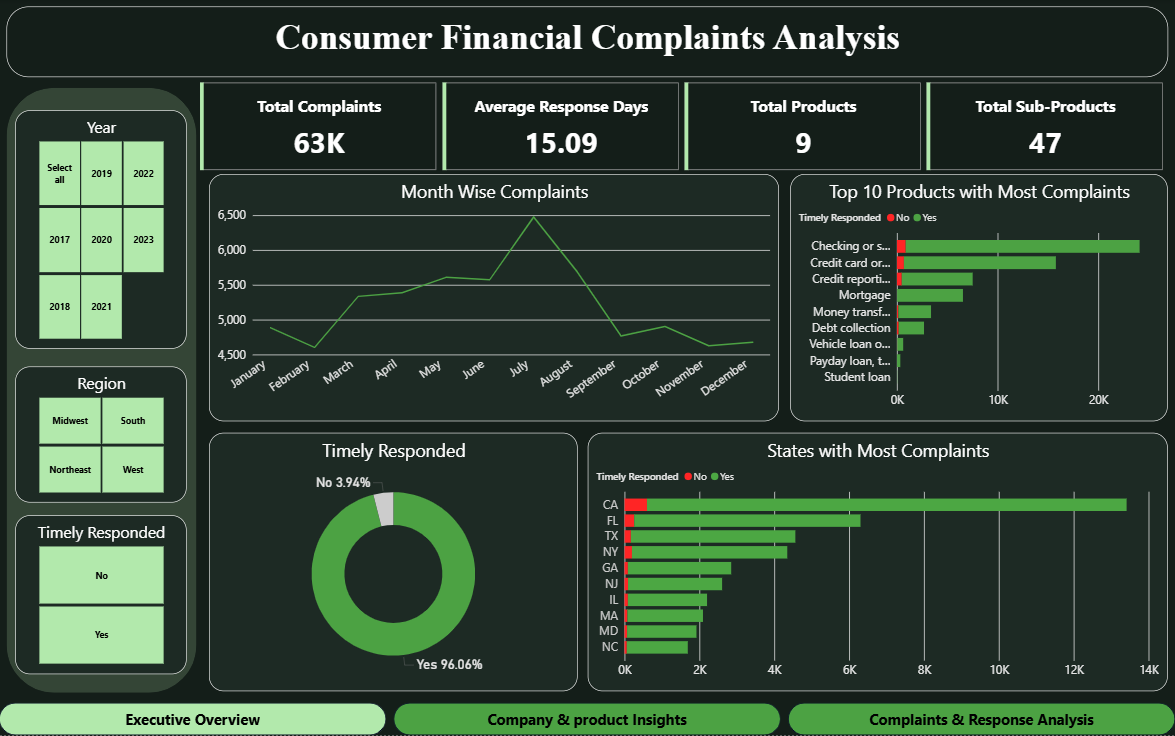

The page's visual inventory and layout, read from the dashboard file:
{"tool":"powerbi","page":{"name":"Executive Overview","canvas":[1600,1000],"ordinal":0},"visuals":[{"type":"textbox","box":[10.3,10.3,1578,96.1],"z":0},{"type":"cardVisual","fields":{"Data":["cleaned_financial_complaints.Total Complaints","cleaned_financial_complaints.Average Response Time","cleaned_financial_complaints.Total Products","cleaned_financial_complaints.Total Sub-Products"]},"box":[268.3,108.7,1319.6,129.1],"z":1000},{"type":"shape","box":[10.2,120.6,258.2,822],"z":2000},{"type":"barChart","title":"Top 10 Products with Most Complaints","fields":{"Category":["cleaned_financial_complaints.Product"],"Series":["cleaned_financial_complaints.Timely response?"],"Y":["CountNonNull(cleaned_financial_complaints.Complaint ID)"]},"box":[1075.1,237.8,512.9,336.3],"z":3000},{"type":"lineChart","title":"Month Wise Complaints","fields":{"Category":["cleaned_financial_complaints.Date submitted.Variation.Date Hierarchy.Month"],"Y":["CountNonNull(cleaned_financial_complaints.Complaint ID)"]},"box":[285.3,237.8,774.5,336.3],"z":4000},{"type":"slicer","title":"Year","fields":{"Values":["cleaned_financial_complaints.Date submitted.Variation.Date Hierarchy.Year"]},"box":[22.1,151.2,232.7,324.4],"z":5000},{"type":"donutChart","title":"Timely Responded","fields":{"Category":["cleaned_financial_complaints.Timely response?"],"Y":["CountNonNull(cleaned_financial_complaints.Complaint ID)"]},"box":[285.3,589.3,501,351.6],"z":6000},{"type":"barChart","title":"States with  Most Complaints","fields":{"Category":["cleaned_financial_complaints.State"],"Series":["cleaned_financial_complaints.Timely response?"],"Y":["CountNonNull(cleaned_financial_complaints.Complaint ID)"]},"box":[799.9,589.3,788,351.6],"z":7000},{"type":"pageNavigator","box":[0,956.2,1599.9,44.2],"z":8000},{"type":"slicer","title":"Timely Responded","fields":{"Values":["cleaned_financial_complaints.Timely response?"]},"box":[22.1,701.4,232.7,215.7],"z":9000},{"type":"slicer","title":"Region","fields":{"Values":["cleaned_financial_complaints.Census_Region"]},"box":[22.1,499.3,232.7,185.1],"z":10000}]}

Visuals, with their boxes in screenshot pixels (x1, y1, x2, y2), scaled from the page's 1600x1000 canvas onto the 1175x736 screenshot:
textbox: Rect(8, 8, 1166, 78)
cardVisual - cleaned_financial_complaints.Total Complaints x cleaned_financial_complaints.Average Response Time: Rect(197, 80, 1166, 175)
shape: Rect(7, 89, 197, 694)
"Top 10 Products with Most Complaints" barChart: Rect(790, 175, 1166, 423)
"Month Wise Complaints" lineChart: Rect(210, 175, 778, 423)
"Year" slicer: Rect(16, 111, 187, 350)
"Timely Responded" donutChart: Rect(210, 434, 577, 693)
"States with  Most Complaints" barChart: Rect(587, 434, 1166, 693)
pageNavigator: Rect(0, 704, 1174, 735)
"Timely Responded" slicer: Rect(16, 516, 187, 675)
"Region" slicer: Rect(16, 367, 187, 504)
